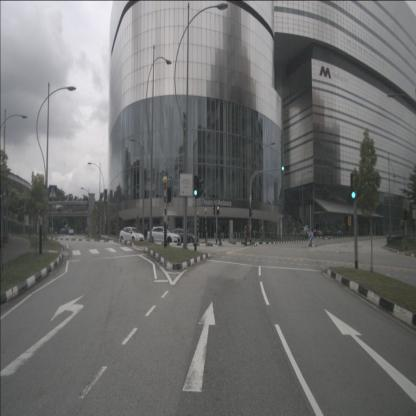human-pedestrian-adult: (217, 225, 222, 246), (245, 225, 248, 246), (244, 225, 247, 246), (294, 226, 297, 238)
vehicle-car: (147, 226, 181, 246), (118, 226, 144, 244), (170, 228, 198, 244), (313, 227, 326, 238), (335, 228, 344, 237), (306, 230, 314, 238), (68, 228, 74, 236)
